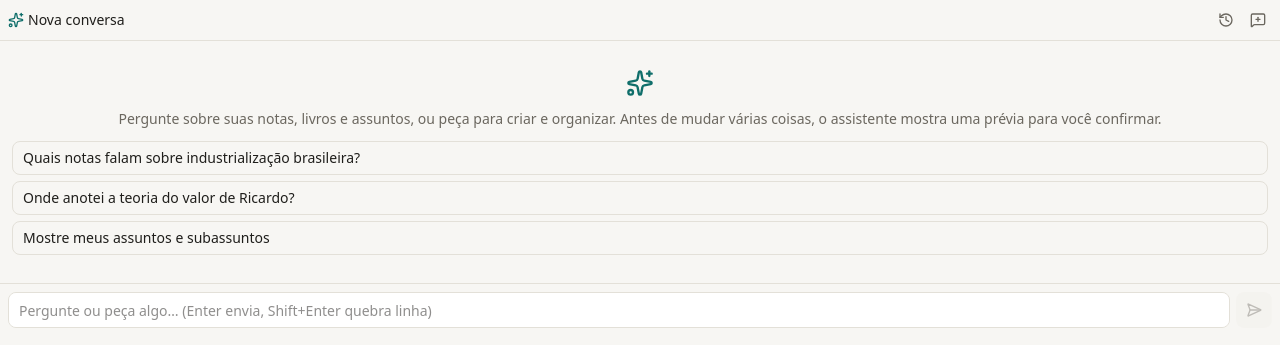
it: assistant chat › shows errors and retries with the same message id
The width and height of the screenshot is (1280, 345).
Replace the text in the text box named "Mensagem para o assistente" with "Oi" at (619,310), box [8,292,1230,328]
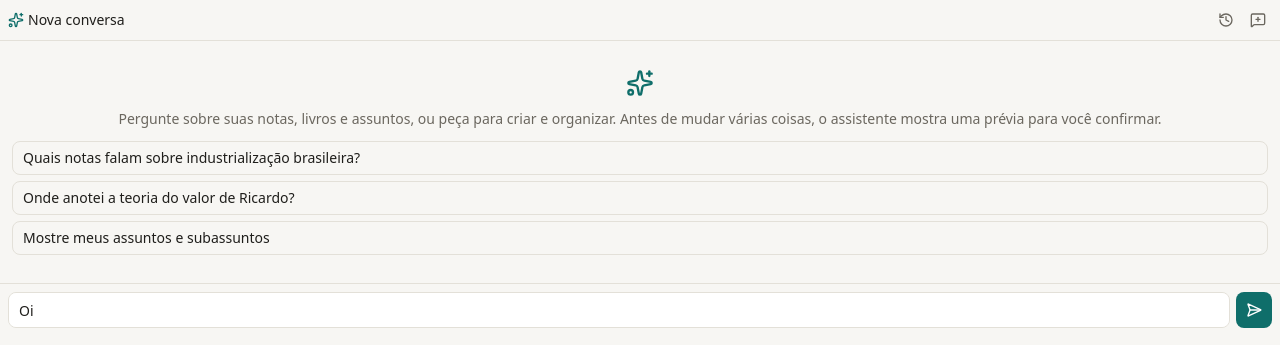
Click the button named "Enviar" at (1254,310), box [1236,292,1272,328]
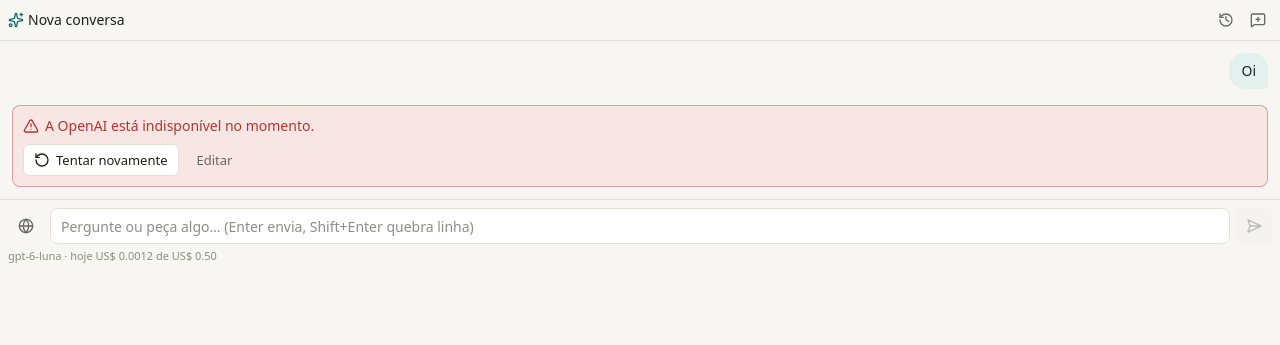
Expected: the message shows "A OpenAI está indisponível no momento.", [45,116,314,135]
Click the button "Tentar novamente" at (101,160), box [23,144,178,176]
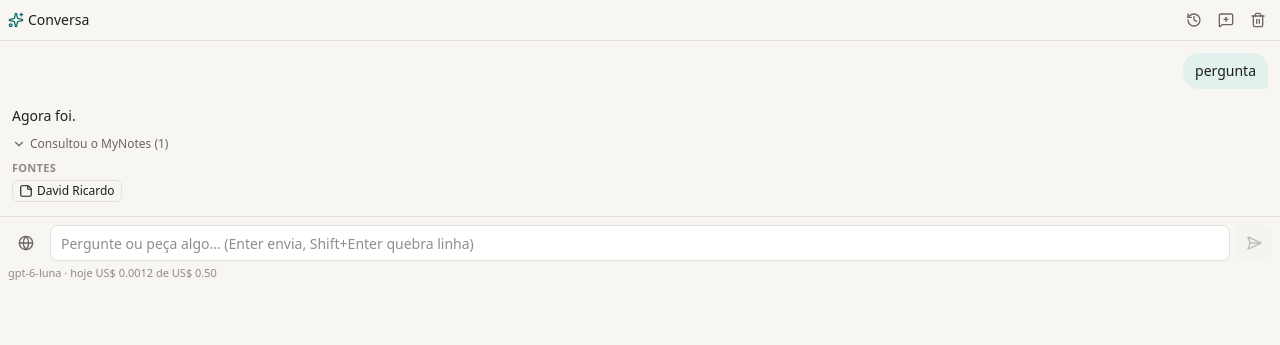
Expected: the text "Agora foi." is shown, [12,106,76,125]
